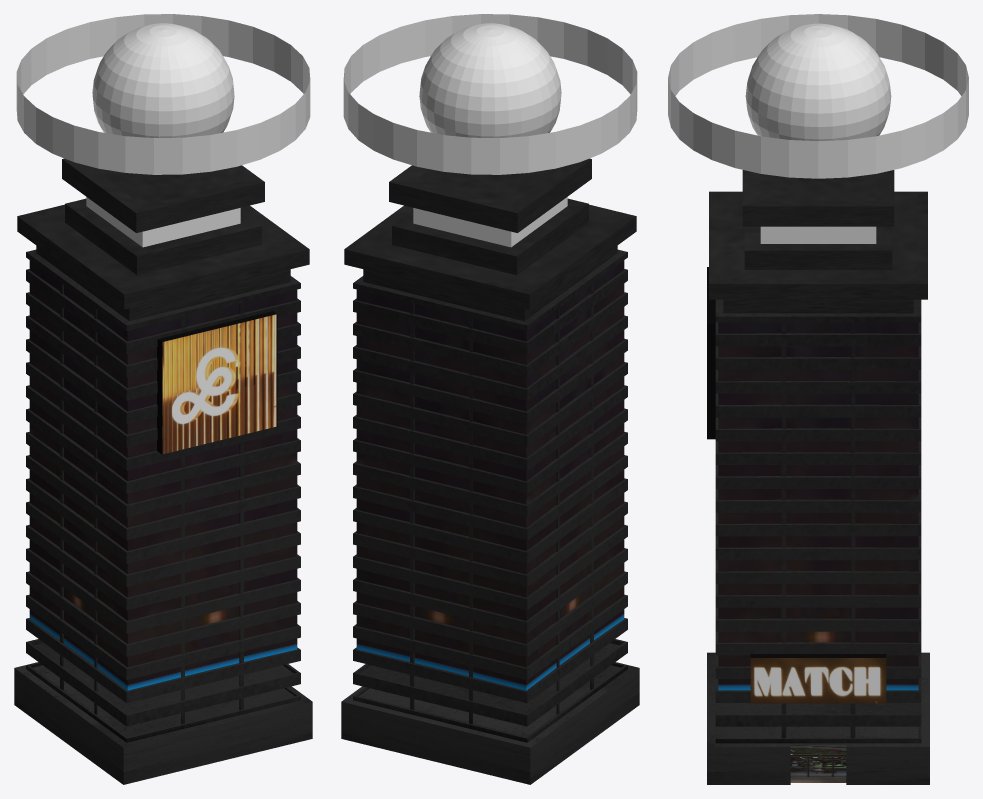
The model's file is Building4.fbx.
3 renders of one model, left to right at view 1: azimuth 30°, elevation 25°; view 2: azimuth 150°, elevation 25°; view 3: azimuth 270°, elevation 25°, orthographic. The views are drawn at different scales.
Visible parts, largest first — view 1: Cube.156, Cube.160, Cube.159, Cylinder.032, Cube.155, Sphere.004, Cube.163, Cube.161, Cube.158; view 2: Cube.156, Cube.160, Cube.159, Cylinder.032, Cube.155, Sphere.004, Cube.161; view 3: Cube.156, Cube.160, Cube.159, Cylinder.032, Sphere.004, Cube.155, Cube.162, Cube.168, Cube.161, Cube.158, Cube.157.
Boxes of the visible parts, <box> form: Cube.156: <box>26,249,300,742</box>; Cube.160: <box>29,260,297,690</box>; Cube.159: <box>17,158,309,320</box>; Cylinder.032: <box>16,14,310,174</box>; Cube.155: <box>14,662,312,784</box>; Sphere.004: <box>92,23,234,137</box>; Cube.163: <box>162,314,276,454</box>; Cube.161: <box>86,197,240,247</box>; Cube.158: <box>157,311,277,454</box>; Cube.156: <box>353,249,627,742</box>; Cube.160: <box>356,260,624,690</box>; Cube.159: <box>344,158,636,320</box>; Cylinder.032: <box>343,14,637,174</box>; Cube.155: <box>341,662,639,784</box>; Sphere.004: <box>419,23,561,137</box>; Cube.161: <box>413,197,567,247</box>; Cube.156: <box>715,299,921,743</box>; Cube.160: <box>718,322,918,690</box>; Cube.159: <box>709,170,927,313</box>; Cylinder.032: <box>668,14,968,178</box>; Sphere.004: <box>745,23,891,141</box>; Cube.155: <box>707,652,929,784</box>; Cube.162: <box>750,658,886,703</box>; Cube.168: <box>790,745,846,782</box>; Cube.161: <box>760,226,876,243</box>; Cube.158: <box>707,267,715,439</box>; Cube.157: <box>750,654,886,657</box>.
Bounding box in the file's own units: 2344 × 6081 × 2344.
9 materials, 7 textured.
